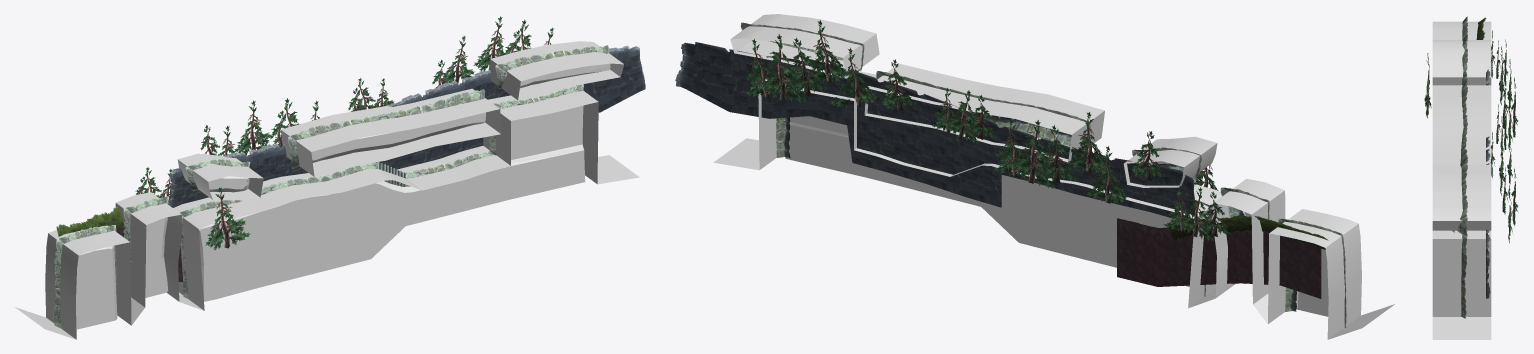
Rendered from LVL10 Ruins Pt2.FBX.
The picture shows the model from 3 angles, left to right: view 1: azimuth 30°, elevation 25°; view 2: azimuth 150°, elevation 25°; view 3: azimuth 270°, elevation 25°; orthographic projection. The views are drawn at different scales.
Parts seen in each view (by area): view 1: Lvl 10 Col Pt2, LVL 10 Black Middle Pt 2_4, LVL 10 Ruins BG Pt2_2, LVL 10 Black Middle Pt 2_1, LVL 10 Ruins BG Pt2_1, LVL10 Trees Pt2_BG, LVL10 Trees Pt2_1BG, LVL 10 Black Middle Pt 2_5, LVL10_Ruins Pt2_5, LVL 10 Black Middle Pt 2_2, LVL10_Ruins Pt2_4, LVL10_Ruins Pt2_6 (+8 smaller); view 2: Lvl 10 Col Pt2, LVL 10 Ruins BG Pt2_2, LVL 10 Black Middle Pt 2_4, LVL 10 Ruins BG Pt2_1, LVL 10 Rock BG Pt2, LVL10 Trees Pt2_BG, LVL10 Trees Pt2_1BG, LVL10_Ruins Pt2_5, LVL10_Land Pt 2 BG, LVL 10 Black Middle Pt 2_1, LVL10_Ruins Pt2_1, LVL10_Ruins Pt2_7 (+1 smaller); view 3: Lvl 10 Col Pt2, LVL10 Trees Pt2_BG, LVL10 Trees Pt2_1BG, LVL10_Ruins Pt2_7, LVL10_Ruins Pt2_6, LVL10_Ruins Pt2_5, LVL 10 Ruins BG Pt2_2, LVL10_Ruins Pt2_3, LVL10 Trees Pt2_FG, LVL10_Land Pt 2 BG, LVL10_Ruins Pt2_1, LVL 10 Ruins BG Pt2_1.
Boxes of the visible parts, x1=… form: Lvl 10 Col Pt2: x1=15, y1=41, x2=639, y2=339; LVL 10 Black Middle Pt 2_4: x1=199, y1=105, x2=585, y2=301; LVL 10 Ruins BG Pt2_2: x1=420, y1=45, x2=645, y2=163; LVL 10 Black Middle Pt 2_1: x1=76, y1=245, x2=117, y2=329; LVL 10 Ruins BG Pt2_1: x1=168, y1=93, x2=423, y2=207; LVL10 Trees Pt2_BG: x1=348, y1=16, x2=554, y2=111; LVL10 Trees Pt2_1BG: x1=135, y1=98, x2=319, y2=201; LVL 10 Black Middle Pt 2_5: x1=311, y1=112, x2=485, y2=162; LVL10_Ruins Pt2_5: x1=288, y1=89, x2=484, y2=168; LVL 10 Black Middle Pt 2_2: x1=145, y1=217, x2=168, y2=297; LVL10_Ruins Pt2_4: x1=179, y1=164, x2=368, y2=299; LVL10_Ruins Pt2_6: x1=409, y1=84, x2=583, y2=177; Lvl 10 Col Pt2: x1=713, y1=14, x2=1394, y2=339; LVL 10 Ruins BG Pt2_2: x1=675, y1=42, x2=926, y2=183; LVL 10 Black Middle Pt 2_4: x1=785, y1=116, x2=1189, y2=286; LVL 10 Ruins BG Pt2_1: x1=920, y1=94, x2=1195, y2=220; LVL 10 Rock BG Pt2: x1=1117, y1=218, x2=1321, y2=298; LVL10 Trees Pt2_BG: x1=746, y1=20, x2=996, y2=143; LVL10 Trees Pt2_1BG: x1=994, y1=112, x2=1230, y2=240; LVL10_Ruins Pt2_5: x1=876, y1=71, x2=1090, y2=151; LVL10_Land Pt 2 BG: x1=1163, y1=215, x2=1328, y2=249; LVL 10 Black Middle Pt 2_1: x1=1295, y1=249, x2=1328, y2=316; LVL10_Ruins Pt2_1: x1=1278, y1=218, x2=1346, y2=327; LVL10_Ruins Pt2_7: x1=740, y1=22, x2=864, y2=70; Lvl 10 Col Pt2: x1=1432, y1=21, x2=1491, y2=339; LVL10 Trees Pt2_BG: x1=1490, y1=103, x2=1518, y2=243; LVL10 Trees Pt2_1BG: x1=1491, y1=30, x2=1518, y2=151; LVL10_Ruins Pt2_7: x1=1457, y1=157, x2=1467, y2=237; LVL10_Ruins Pt2_6: x1=1461, y1=231, x2=1467, y2=318; LVL10_Ruins Pt2_5: x1=1460, y1=80, x2=1467, y2=163; LVL 10 Ruins BG Pt2_2: x1=1486, y1=149, x2=1490, y2=298; LVL10_Ruins Pt2_3: x1=1462, y1=37, x2=1467, y2=85; LVL10 Trees Pt2_FG: x1=1424, y1=53, x2=1431, y2=118; LVL10_Land Pt 2 BG: x1=1476, y1=17, x2=1486, y2=39; LVL10_Ruins Pt2_1: x1=1462, y1=16, x2=1467, y2=39; LVL 10 Ruins BG Pt2_1: x1=1486, y1=67, x2=1490, y2=147.
Size of the model in its own units: 11332 by 1552 by 3263.
